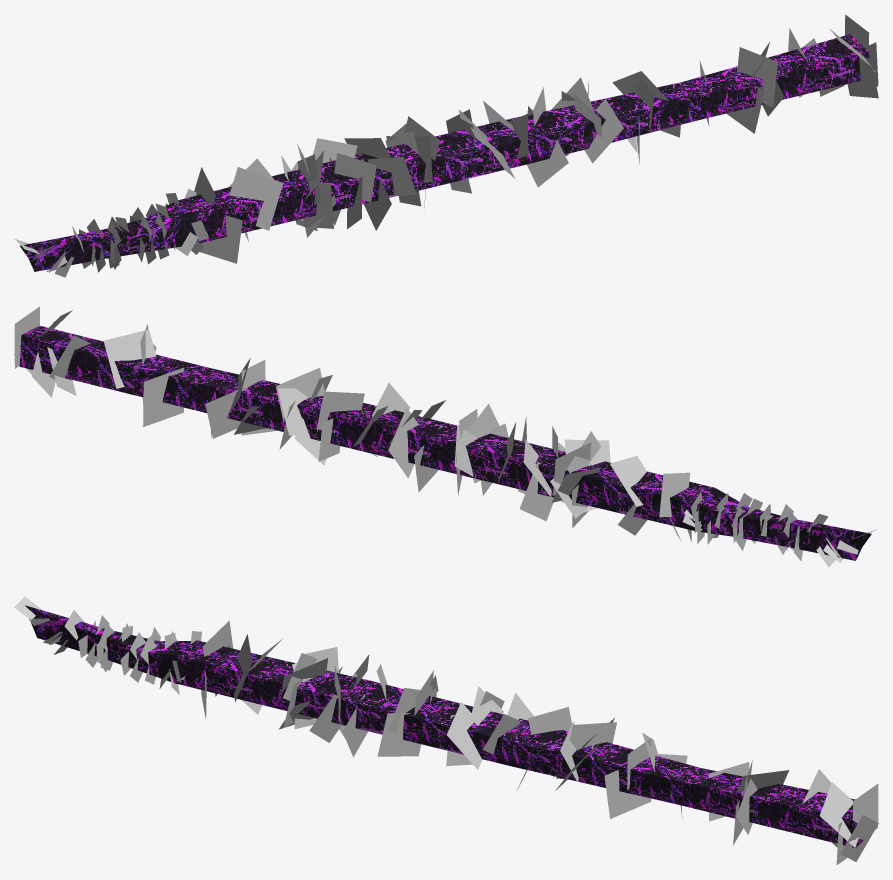
File: rere_mur_de_ronce.fbx
The picture shows the model from 3 angles, top to bottom: view 1: azimuth 30°, elevation 25°; view 2: azimuth 150°, elevation 25°; view 3: azimuth 330°, elevation 25°; orthographic projection.
Parts seen in each view (by area): view 1: Cube.002, Cube.001, Cube.002|vines|Dupli|13, Cube.002|vines|Dupli|7, Cube.002|vines|Dupli|47, Cube.002|vines|Dupli|15, Cube.002|vines|Dupli|44, Cube.002|vines|Dupli|41, Cube.002|vines|Dupli|57, Cube.002|vines|Dupli|40, Cube.002|vines|Dupli|3, Cube.002|vines|Dupli|27 (+4 smaller); view 2: Cube.002, Cube.001, Cube.002|vines|Dupli|8, Cube.002|vines|Dupli|5, Cube.002|vines|Dupli|36, Cube.002|vines|Dupli|23, Cube.002|vines|Dupli|34, Cube.002|vines|Dupli|14, Cube.002|vines|Dupli|45, Cube.002|vines|Dupli|37, Cube.002|vines|Dupli|11, Cube.002|vines|Dupli|26 (+9 smaller); view 3: Cube.002, Cube.001, Cube.002|vines|Dupli|9, Cube.002|vines|Dupli|43, Cube.002|vines|Dupli|42, Cube.002|vines|Dupli|55, Cube.002|vines|Dupli|26, Cube.002|vines|Dupli|23, Cube.002|vines|Dupli|, Cube.002|vines|Dupli|1, Cube.002|vines|Dupli|39, Cube.002|vines|Dupli|8 (+6 smaller).
Part boxes in pixels (bbox=[...]): Cube.002: bbox=[178, 34, 869, 243]; Cube.001: bbox=[20, 202, 198, 271]; Cube.002|vines|Dupli|13: bbox=[229, 167, 283, 230]; Cube.002|vines|Dupli|7: bbox=[737, 47, 777, 106]; Cube.002|vines|Dupli|47: bbox=[199, 215, 242, 263]; Cube.002|vines|Dupli|15: bbox=[334, 153, 376, 202]; Cube.002|vines|Dupli|44: bbox=[584, 99, 623, 163]; Cube.002|vines|Dupli|41: bbox=[367, 156, 416, 195]; Cube.002|vines|Dupli|57: bbox=[527, 140, 568, 187]; Cube.002|vines|Dupli|40: bbox=[303, 182, 333, 228]; Cube.002|vines|Dupli|3: bbox=[847, 57, 878, 98]; Cube.002|vines|Dupli|27: bbox=[313, 138, 357, 163]; Cube.002: bbox=[19, 325, 714, 530]; Cube.001: bbox=[694, 488, 871, 560]; Cube.002|vines|Dupli|8: bbox=[103, 329, 156, 388]; Cube.002|vines|Dupli|5: bbox=[143, 367, 184, 426]; Cube.002|vines|Dupli|36: bbox=[205, 387, 244, 438]; Cube.002|vines|Dupli|23: bbox=[316, 391, 364, 429]; Cube.002|vines|Dupli|34: bbox=[388, 407, 418, 478]; Cube.002|vines|Dupli|14: bbox=[610, 455, 646, 506]; Cube.002|vines|Dupli|45: bbox=[519, 461, 553, 521]; Cube.002|vines|Dupli|37: bbox=[278, 388, 308, 435]; Cube.002|vines|Dupli|11: bbox=[659, 472, 690, 517]; Cube.002|vines|Dupli|26: bbox=[276, 367, 324, 422]; Cube.002: bbox=[177, 641, 863, 847]; Cube.001: bbox=[25, 605, 198, 683]; Cube.002|vines|Dupli|9: bbox=[819, 782, 858, 847]; Cube.002|vines|Dupli|43: bbox=[377, 713, 421, 756]; Cube.002|vines|Dupli|42: bbox=[447, 702, 482, 769]; Cube.002|vines|Dupli|55: bbox=[604, 770, 651, 818]; Cube.002|vines|Dupli|26: bbox=[570, 722, 616, 749]; Cube.002|vines|Dupli|23: bbox=[528, 707, 571, 734]; Cube.002|vines|Dupli|: bbox=[840, 815, 878, 861]; Cube.002|vines|Dupli|1: bbox=[852, 783, 878, 829]; Cube.002|vines|Dupli|39: bbox=[309, 694, 341, 742]; Cube.002|vines|Dupli|8: bbox=[737, 770, 789, 791].
Size of the model in its own units: 971 by 97.29 by 114.
